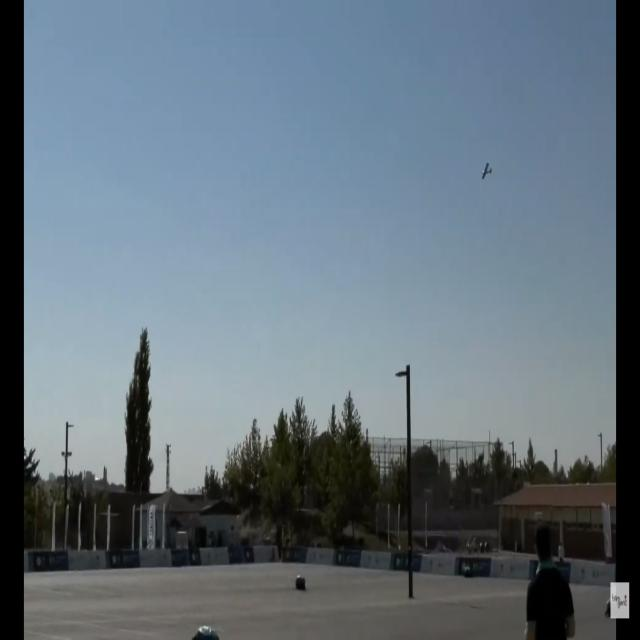iha: (478, 161, 494, 182)
